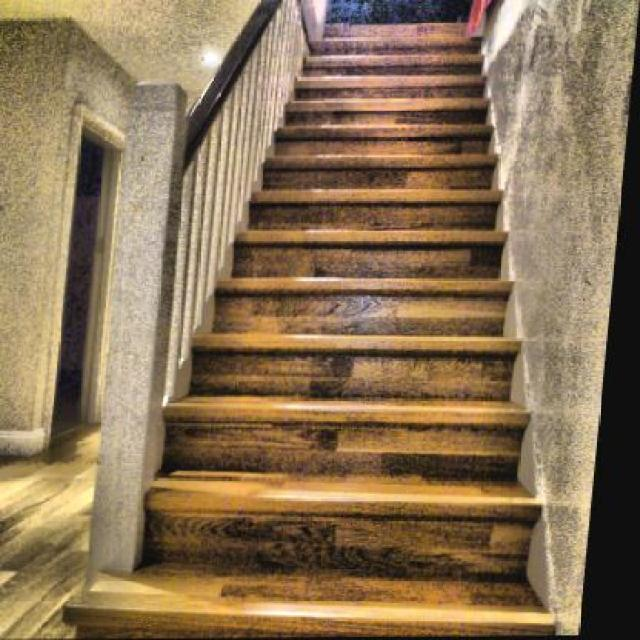stair: (170, 12, 616, 631)
